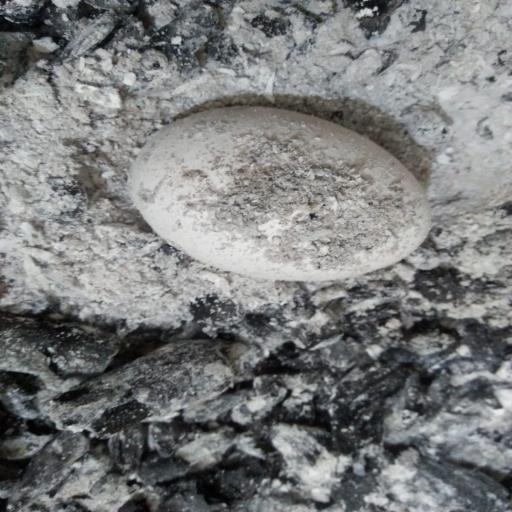telur: (123, 98, 435, 290)
